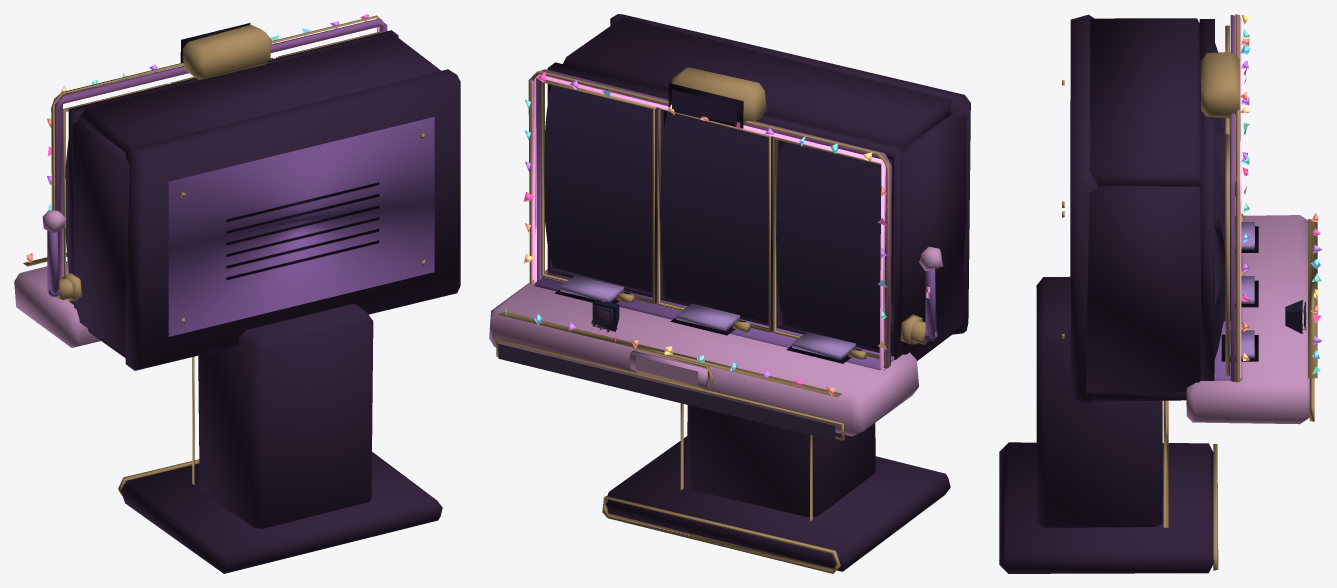
File: slot-cabinet-lod1.glb
3 renders of one model, left to right at view 1: azimuth 30°, elevation 25°; view 2: azimuth 150°, elevation 25°; view 3: azimuth 270°, elevation 25°, orthographic. The views are drawn at different scales.
Visible parts, largest first — view 1: slot_cabinet_lod1; view 2: slot_cabinet_lod1; view 3: slot_cabinet_lod1.
Boxes of the visible parts, left/top/right/bottom form: slot_cabinet_lod1: left=14, top=14, right=460, bottom=573; slot_cabinet_lod1: left=489, top=14, right=970, bottom=573; slot_cabinet_lod1: left=999, top=14, right=1322, bottom=573.
Bounding box in the file's own units: 1.66 × 1.88 × 1.22.
